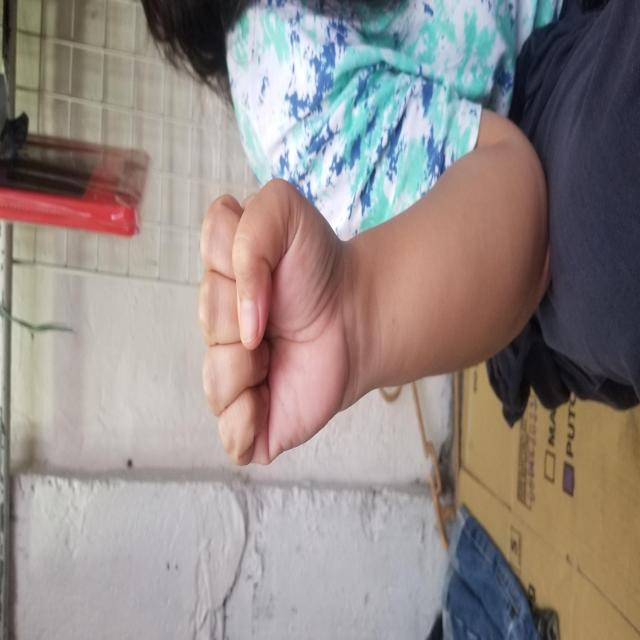S: (170, 196, 466, 343)
